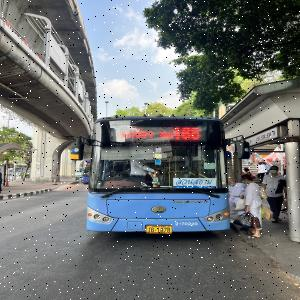BMTA-bus: (86, 116, 231, 237)
Bus Line Number: (172, 126, 202, 141)
Bus Side Number: (173, 222, 199, 226)
Destination Sign: (173, 177, 217, 189)
